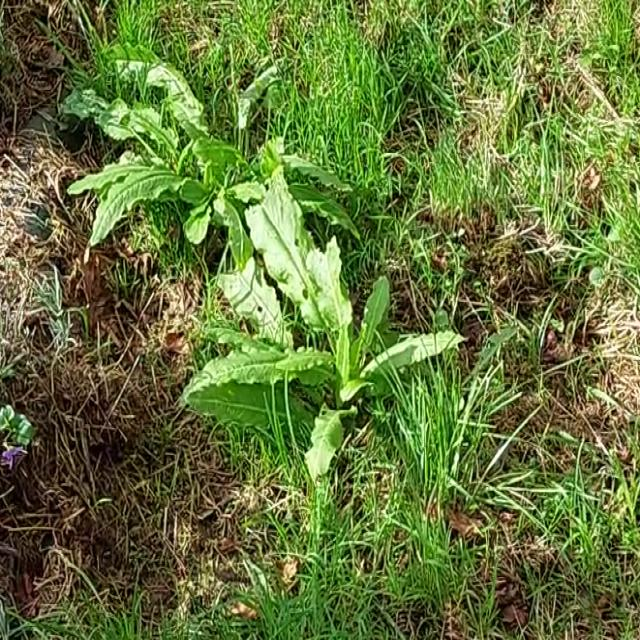organic waste: (179, 163, 467, 510), (66, 41, 356, 280)
